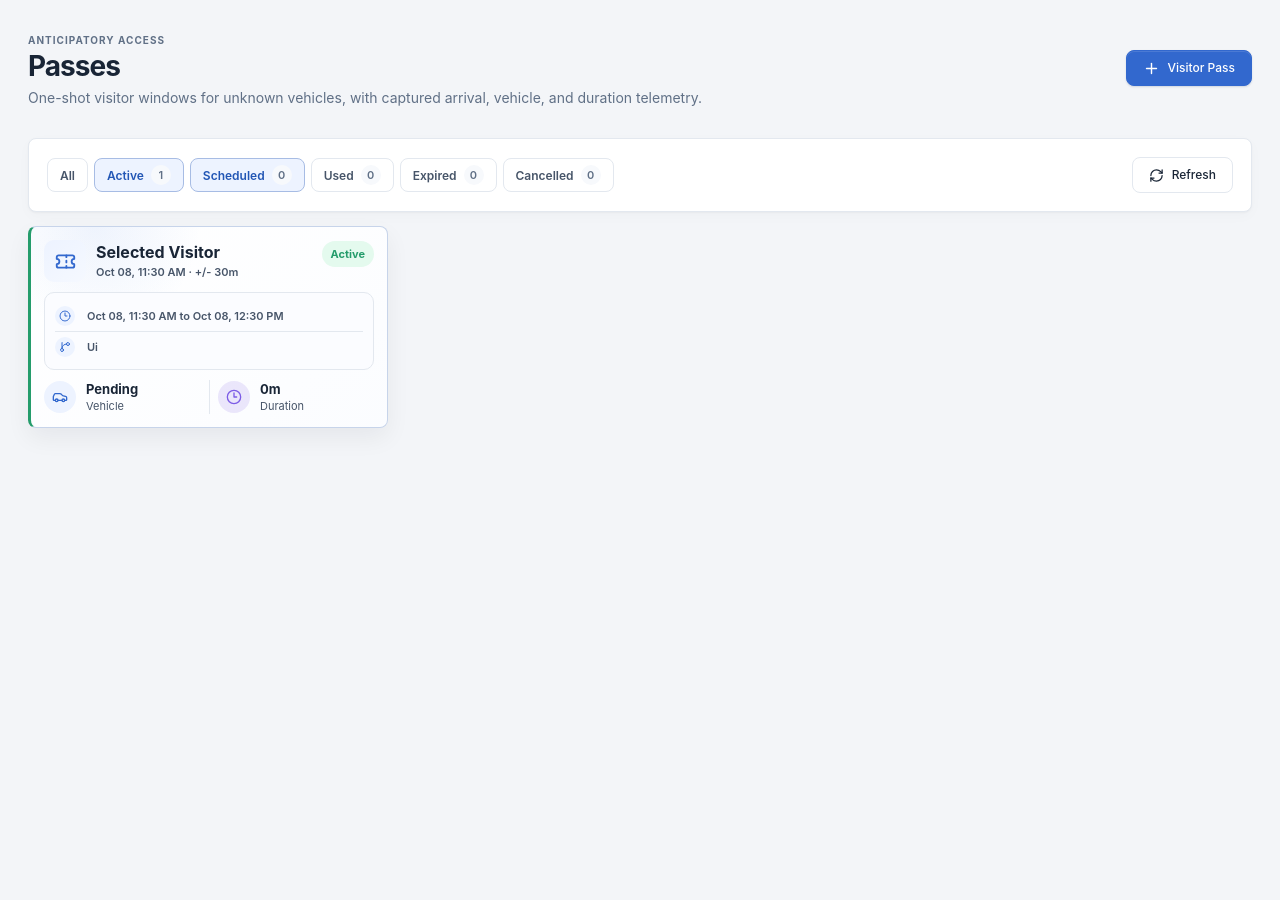
Scenario: does not replace a full cancelled realtime row with a late active selected GET, retaining its draft
Click the button "Selected Visitor". click: (208, 328)
box: x1=28 y1=226 x2=388 y2=428
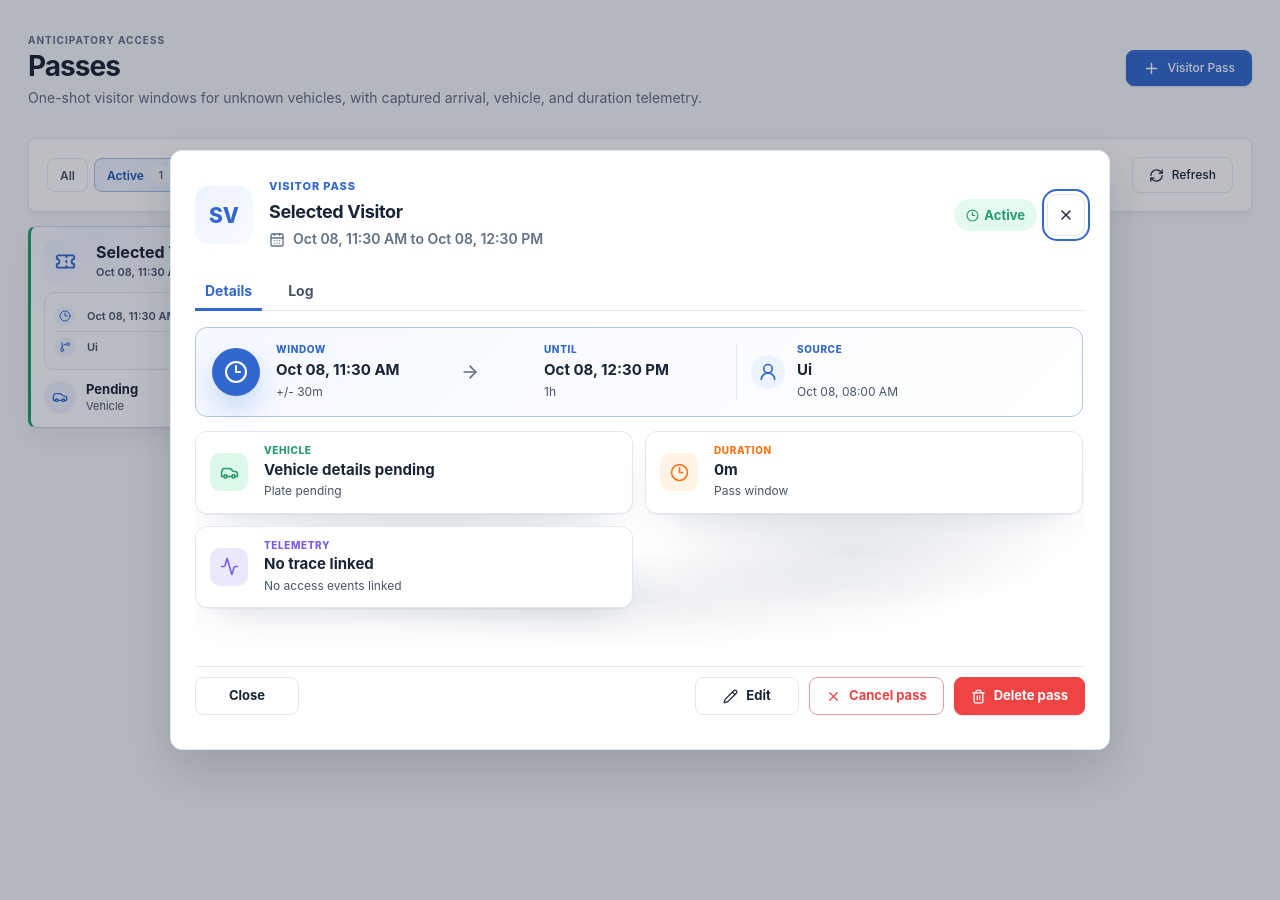
Click the button "Edit". click: (747, 696)
box: x1=695 y1=677 x2=799 y2=715
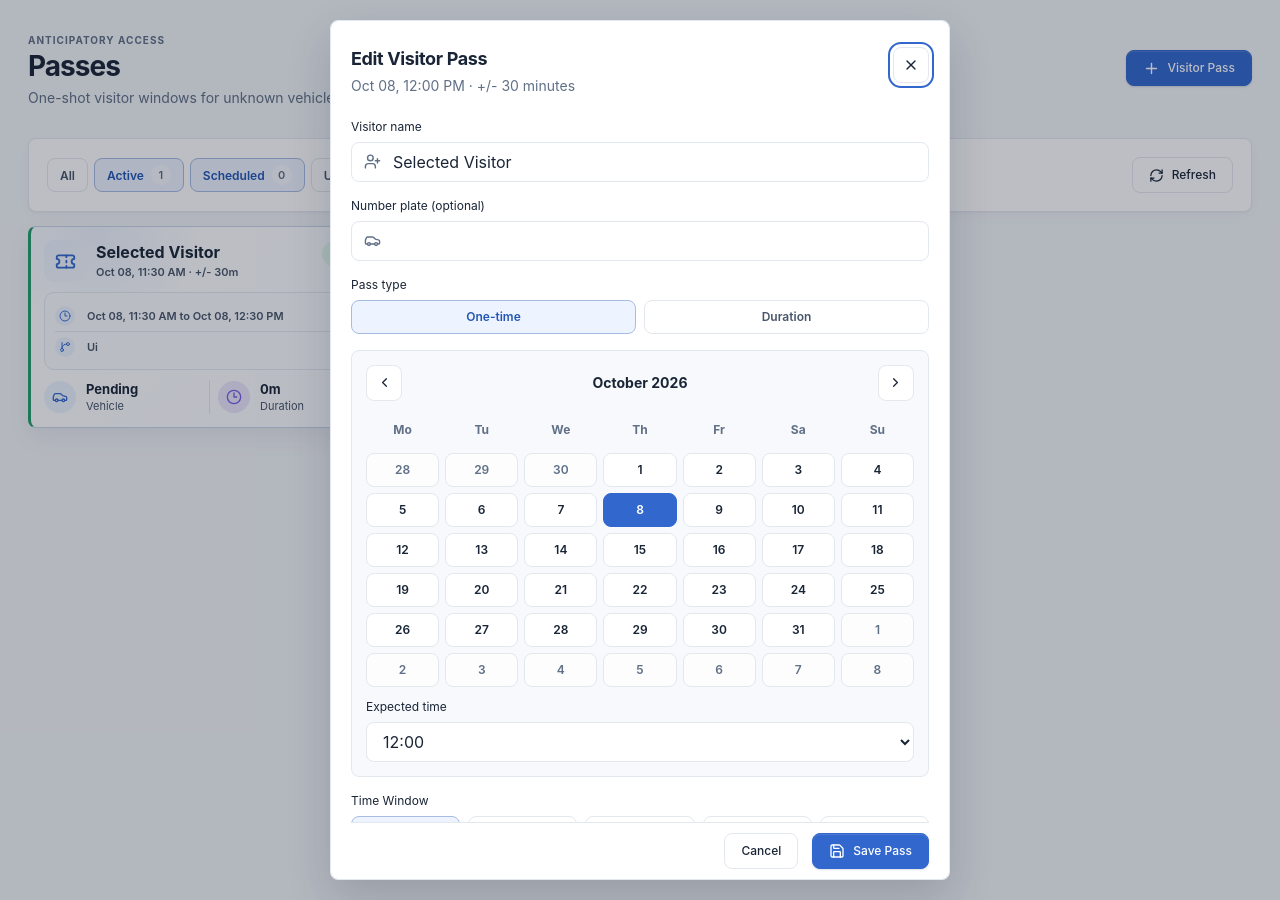
Replace the text in the field labelled "Visitor name" with "Retained full-event draft". click: (654, 162)
box: x1=391 y1=151 x2=916 y2=173
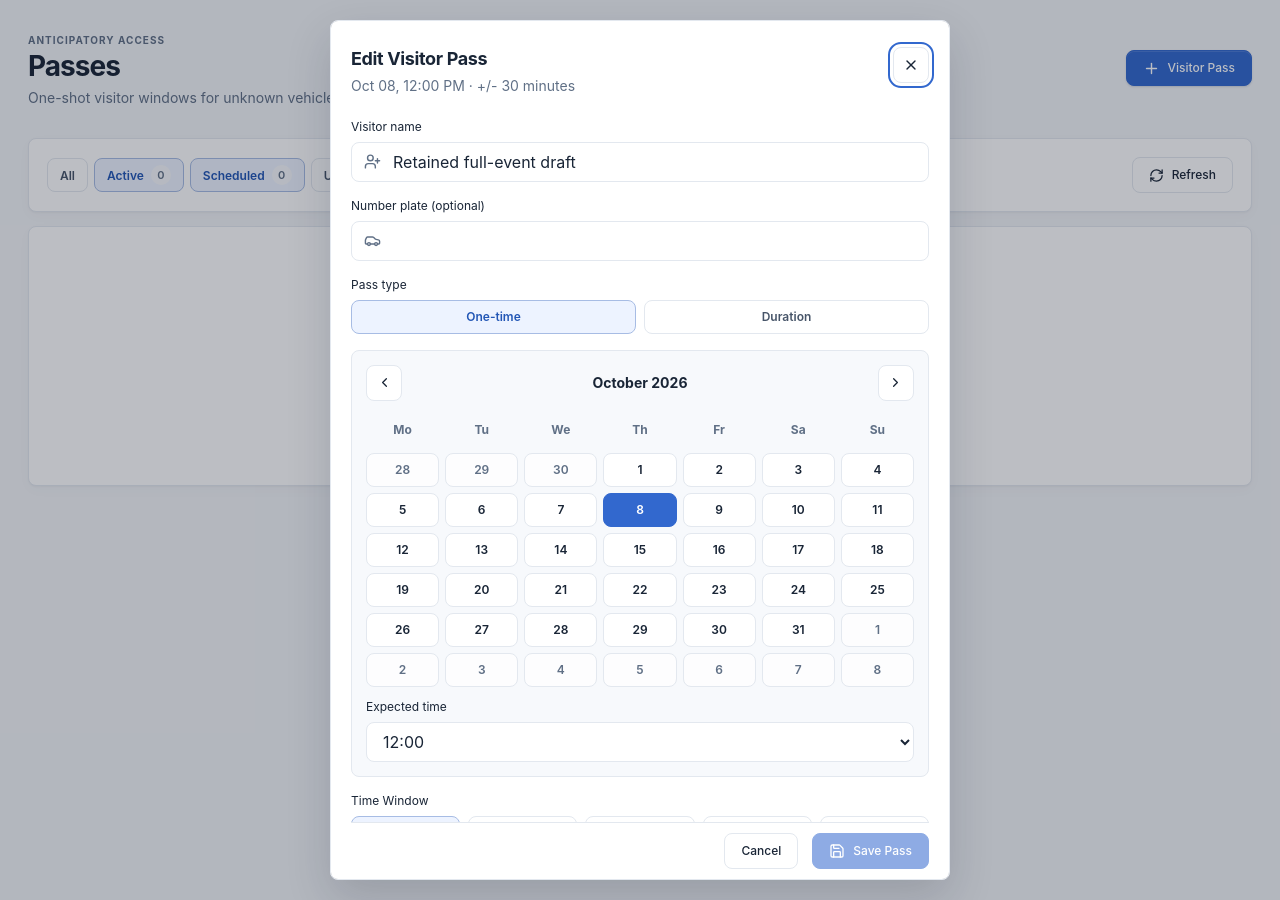
Check: the button "Save Pass" is disabled, box x1=812 y1=833 x2=929 y2=869
